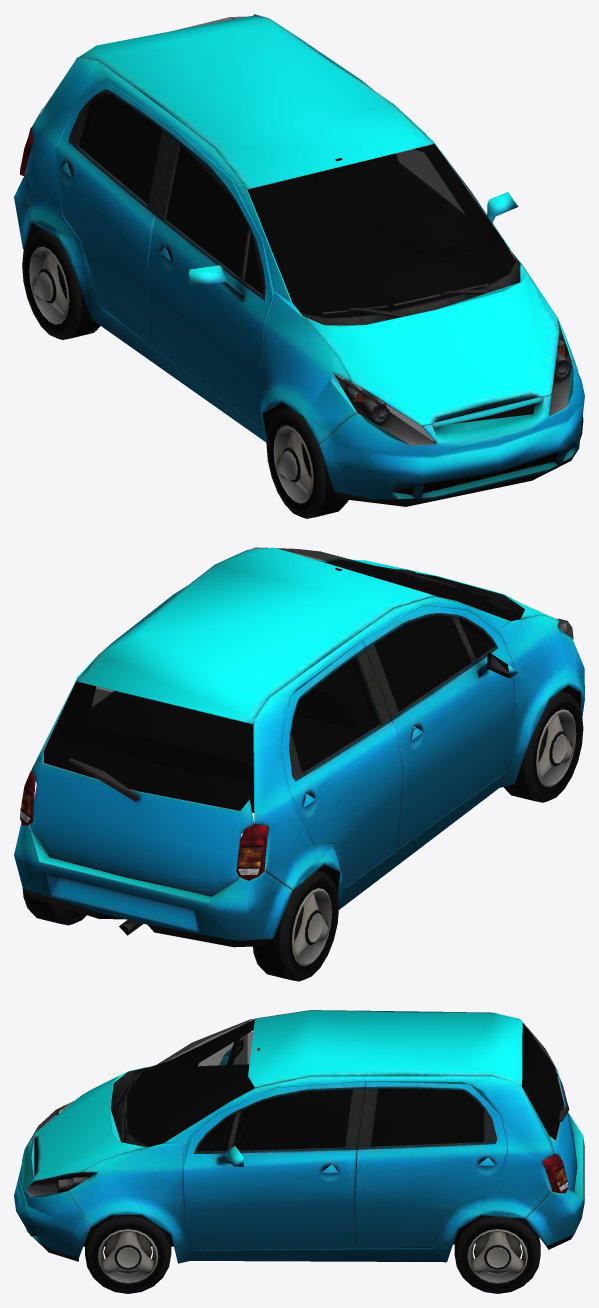
Rendered from compact_lo.glb.
3 renders of one model, top to bottom at view 1: azimuth 30°, elevation 25°; view 2: azimuth 150°, elevation 25°; view 3: azimuth 270°, elevation 25°, orthographic. The views are drawn at different scales.
Parts seen in each view (by area): view 1: body, wheel_fr, wheel_rr; view 2: body, wheel_rr, wheel_fr, wheel_rl; view 3: body, wheel_fl, wheel_rl.
Part boxes in pixels (x1,y1,x2,y2): body: (14,14,584,506); wheel_fr: (266,407,348,518); wheel_rr: (22,229,100,339); body: (14,547,584,947); wheel_rr: (253,870,338,981); wheel_fr: (503,691,583,802); wheel_rl: (22,888,86,925); body: (14,1010,584,1263); wheel_fl: (85,1215,171,1293); wheel_rl: (454,1215,540,1293).
Size of the model in its own units: 1.97 by 1.6 by 3.95.
4 materials, 3 textured.
